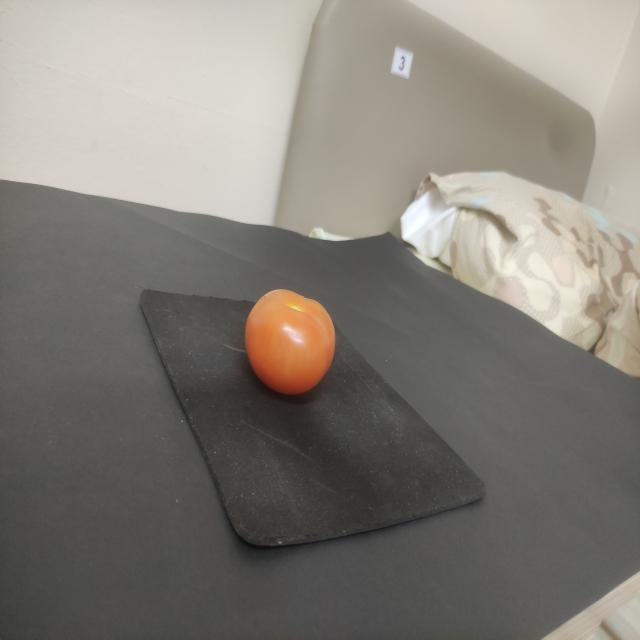sari: (234, 250, 356, 406)
